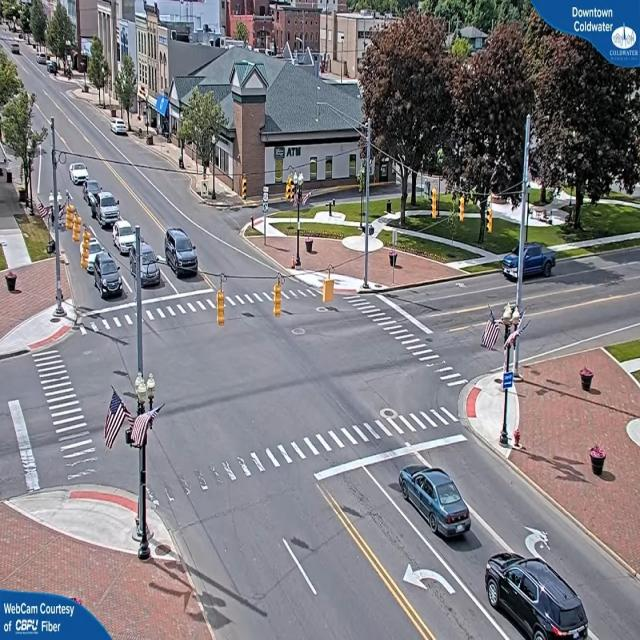car: (484, 554, 596, 640), (398, 467, 471, 539), (90, 248, 125, 298), (163, 228, 199, 275), (517, 244, 559, 280), (90, 188, 121, 228), (502, 258, 520, 282), (70, 163, 88, 186), (112, 120, 129, 136)
